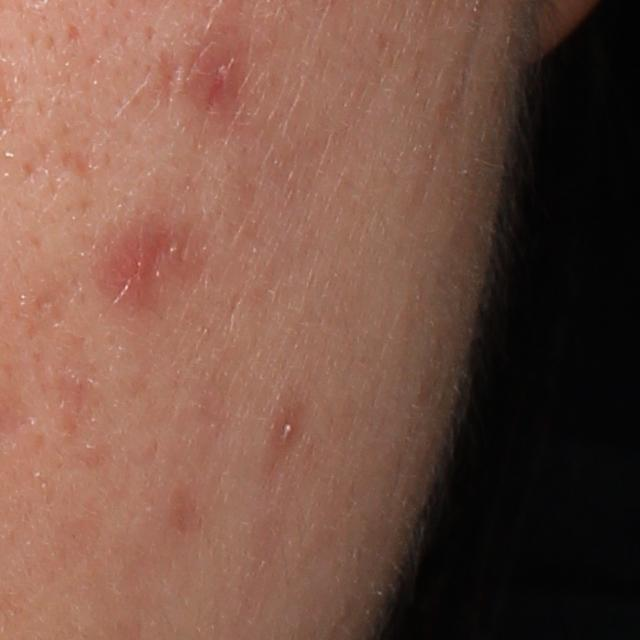atrophic_scar: (157, 51, 181, 112), (61, 149, 96, 179)
papule: (189, 33, 255, 115), (104, 230, 169, 307), (267, 401, 303, 455)
